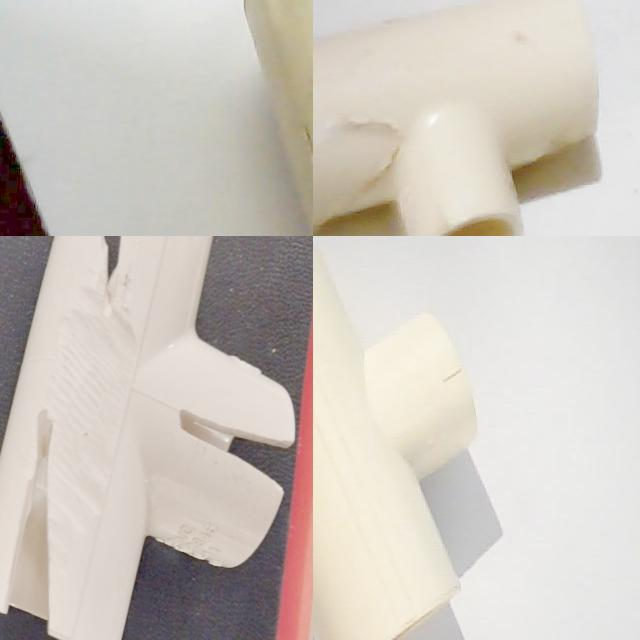Defective: (313, 86, 404, 228), (0, 609, 52, 640)
T Joint: (313, 248, 478, 640), (0, 268, 79, 640), (149, 472, 203, 640)
